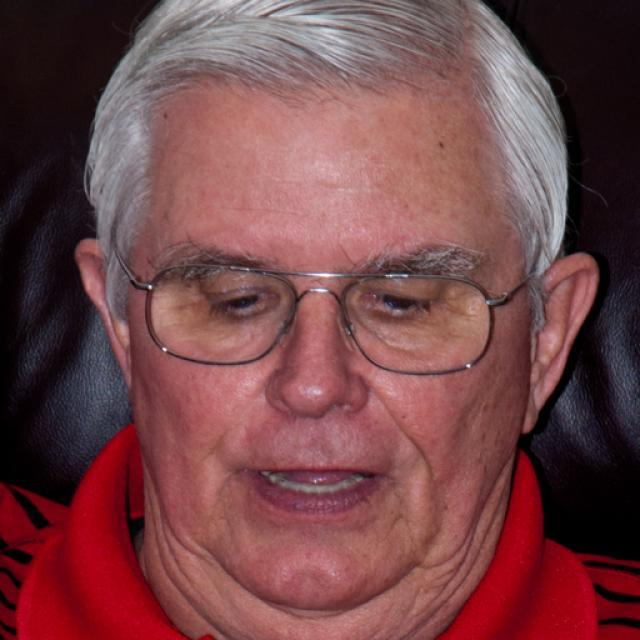anger: (125, 70, 529, 614)
